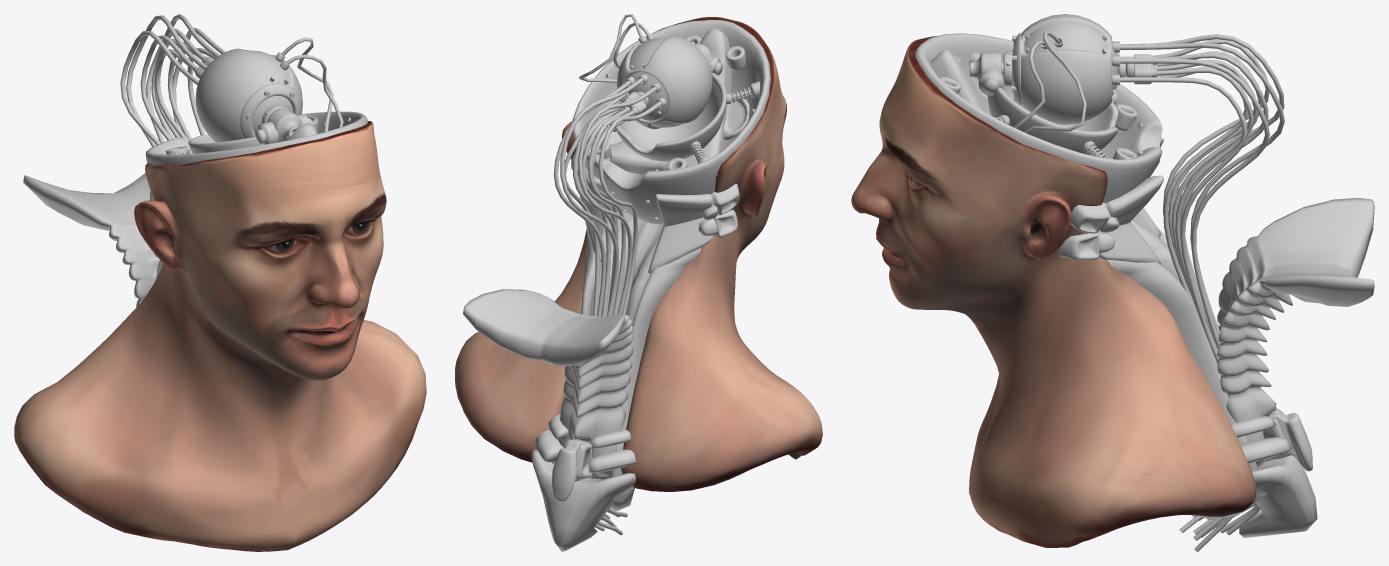
File: Pseudonimbus_low.fbx
The picture shows the model from 3 angles, left to right: view 1: azimuth 30°, elevation 25°; view 2: azimuth 150°, elevation 25°; view 3: azimuth 270°, elevation 25°; orthographic projection. The views are drawn at different scales.
Parts seen in each view (by area): view 1: Head, Mech_low, Details, Eyes; view 2: Mech_low, Head, Details; view 3: Head, Mech_low, Details.
Boxes of the visible parts, box(x1,y1,x2,y2) form: Head: box(14, 121, 426, 551); Mech_low: box(23, 48, 368, 306); Details: box(120, 14, 350, 154); Eyes: box(263, 221, 371, 254); Mech_low: box(463, 20, 770, 551); Head: box(455, 17, 822, 491); Details: box(553, 14, 754, 535); Head: box(851, 36, 1256, 547); Mech_low: box(915, 14, 1374, 537); Details: box(940, 31, 1284, 551).
Size of the model in its own units: 0.2676 by 0.3391 by 0.299.
